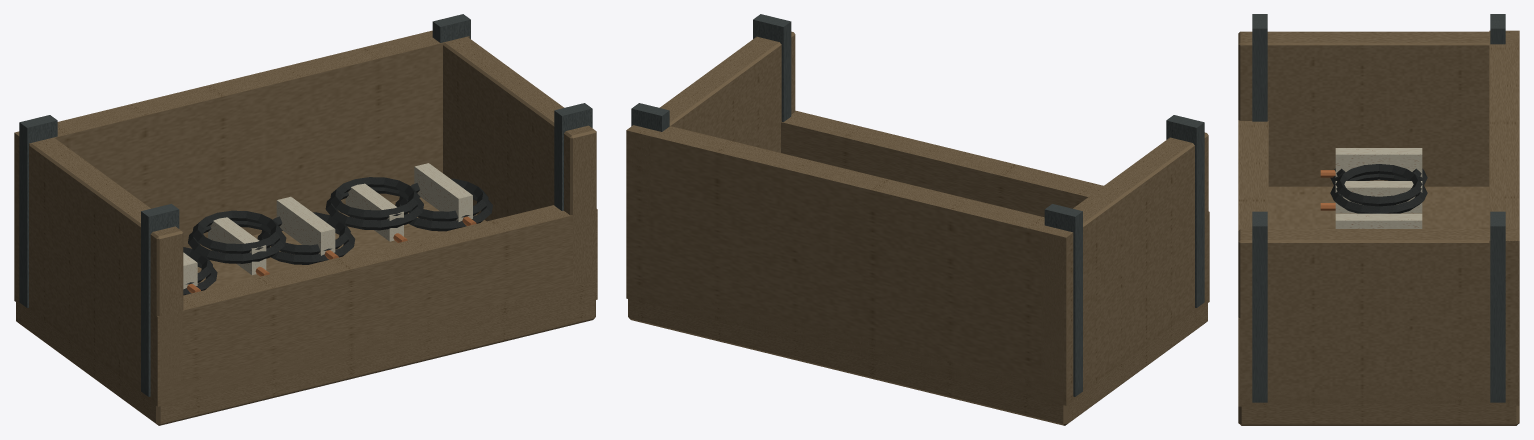
The model's file is WireCrate.fbx.
3 renders of one model, left to right at view 1: azimuth 30°, elevation 25°; view 2: azimuth 150°, elevation 25°; view 3: azimuth 270°, elevation 25°, orthographic. The views are drawn at different scales.
Parts seen in each view (by area): view 1: WireCrate; view 2: WireCrate; view 3: WireCrate.
Boxes of the visible parts, left/top/right/bottom form: WireCrate: left=14, top=14, right=597, bottom=425; WireCrate: left=626, top=14, right=1209, bottom=425; WireCrate: left=1238, top=14, right=1519, bottom=425.
Bounding box in the file's own units: 232 × 103 × 130.
Materials: 1 (1 with a texture image).
